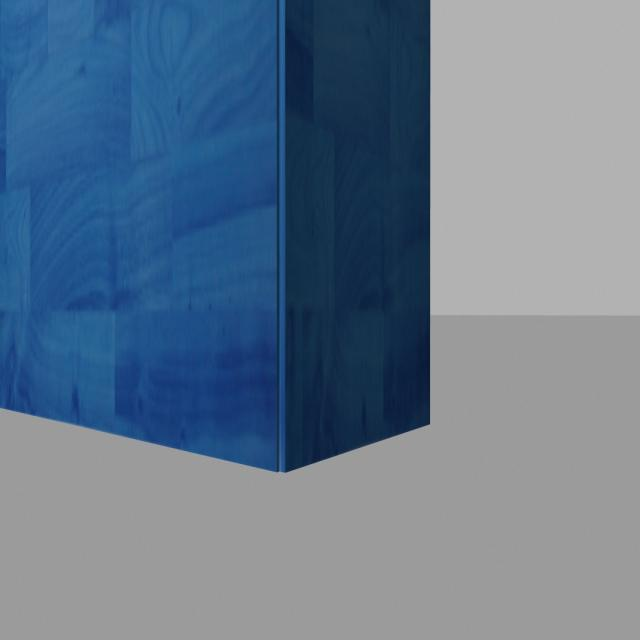shelf: (0, 0, 461, 492)
